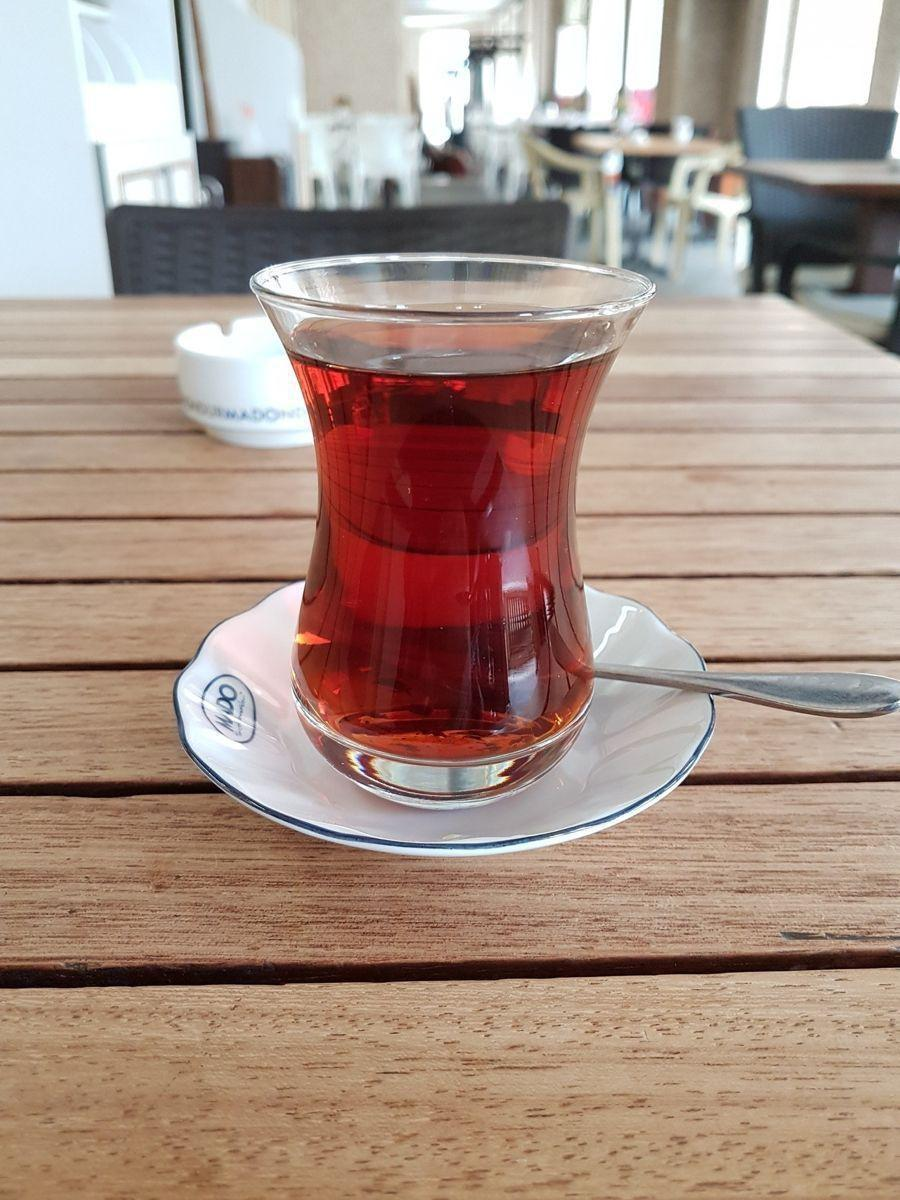glass-normal: (248, 251, 660, 800)
